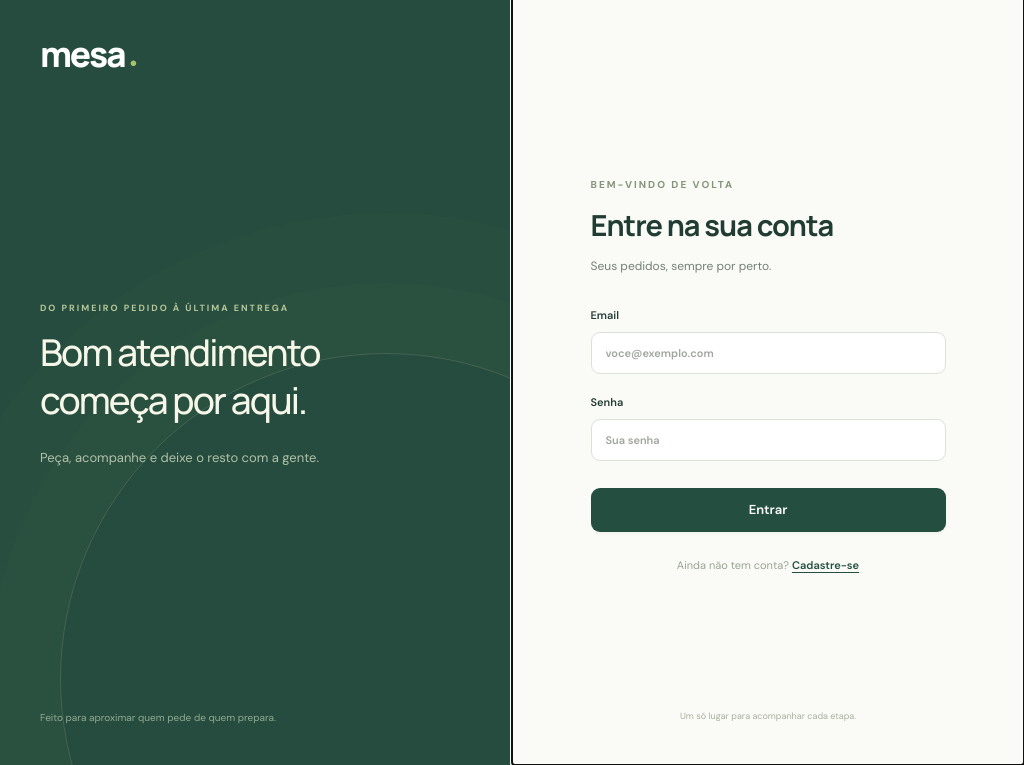
Test: preserves the order form when creation is rejected and does not retry
In the field labelled "Email": (768, 353) [590,332,946,374], type "ana@example.com"
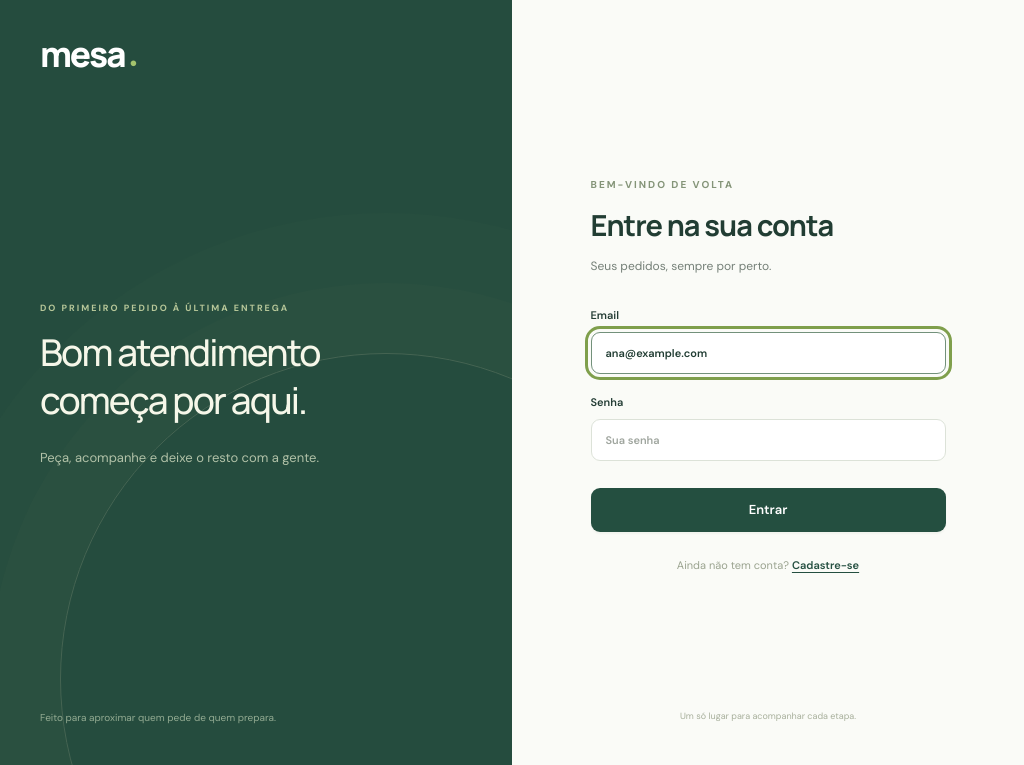
In the password field labelled "Senha": (768, 440) [590,419,946,461], type "senha"
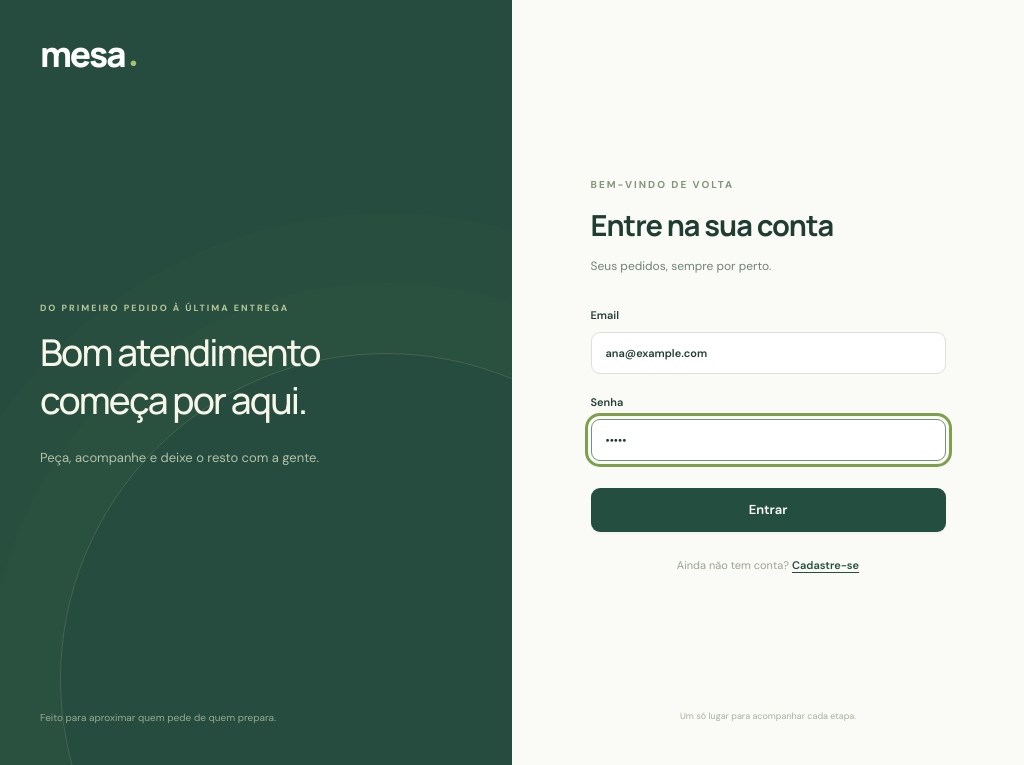
Click the button "Entrar": (768, 510) [590,488,946,532]
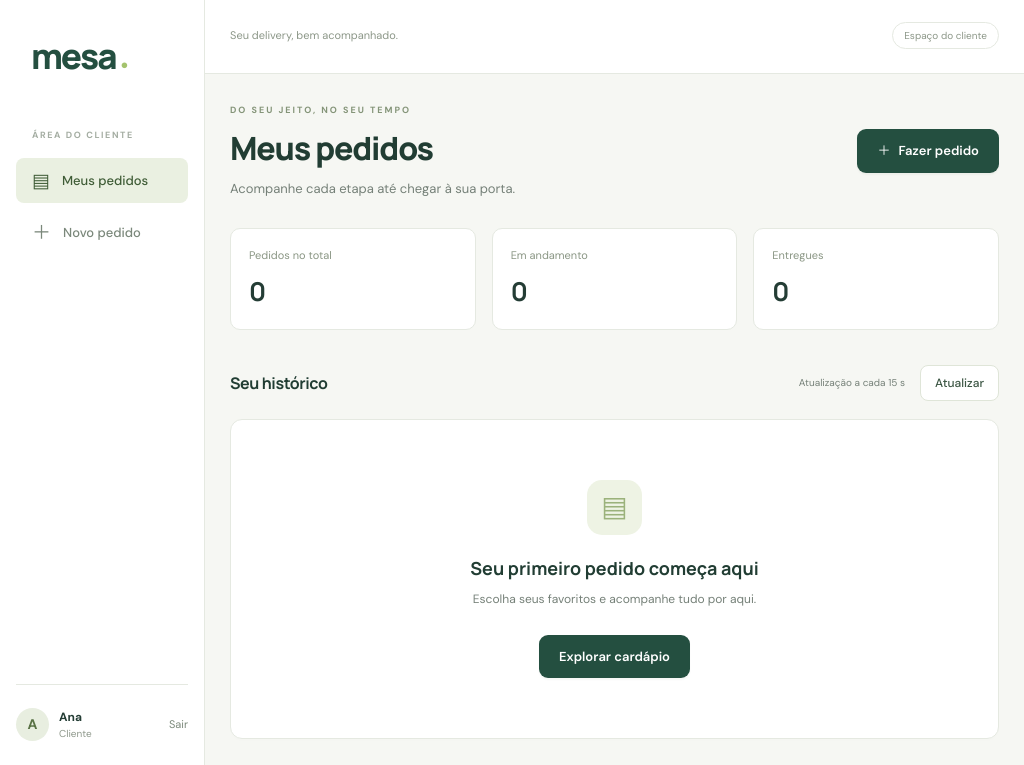
Click the link "＋ Novo pedido": (86, 233) [32,220,141,245]
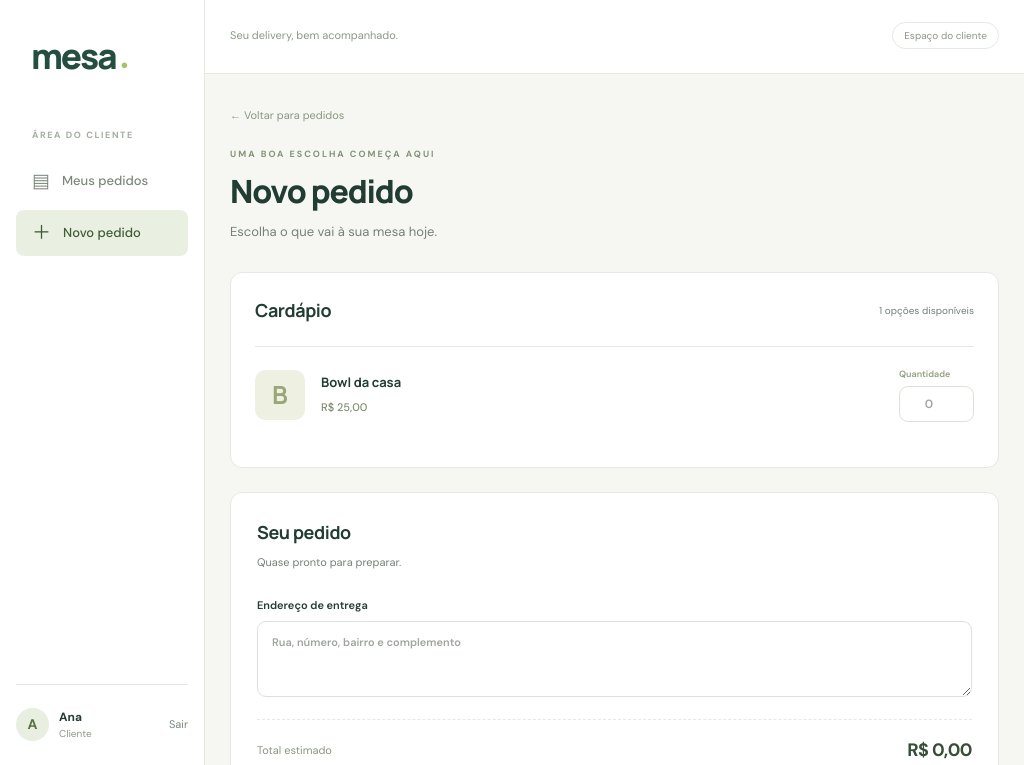
In the number field named "Quantidade de Bowl da casa": (936, 404) [899,386,974,422], type "1"
In the text box labelled "Endereço de entrega": (614, 659) [257,621,972,697], type "Rua A"
(page scrolled)
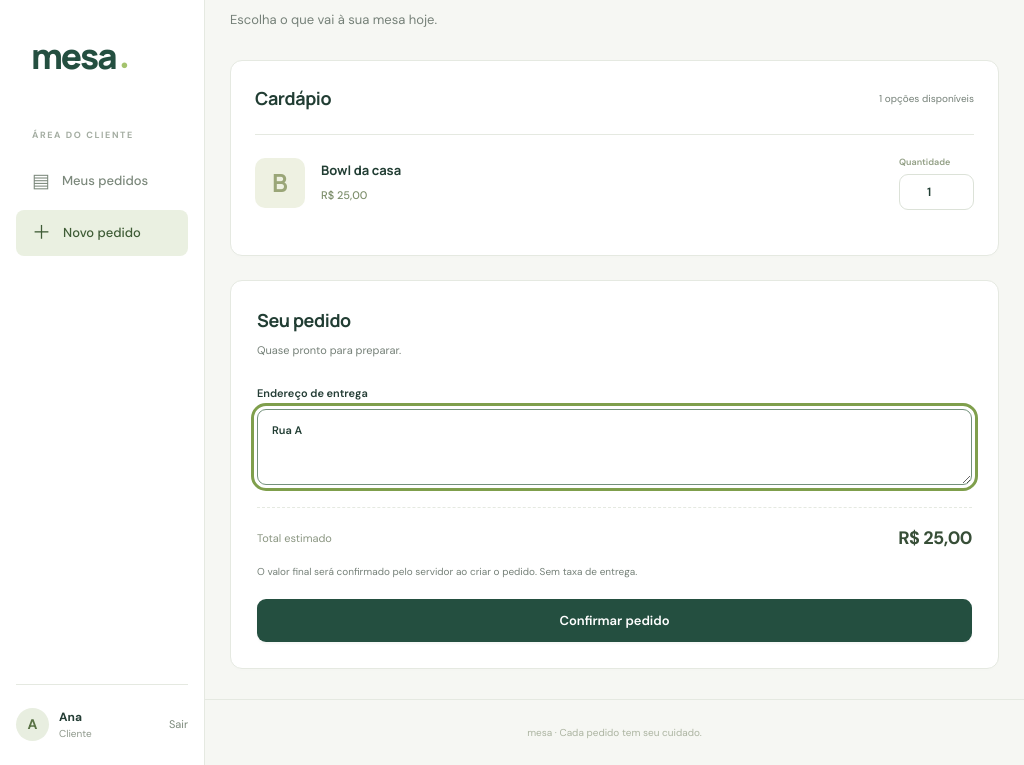
Click the button "Confirmar pedido": (614, 621) [257,599,972,642]
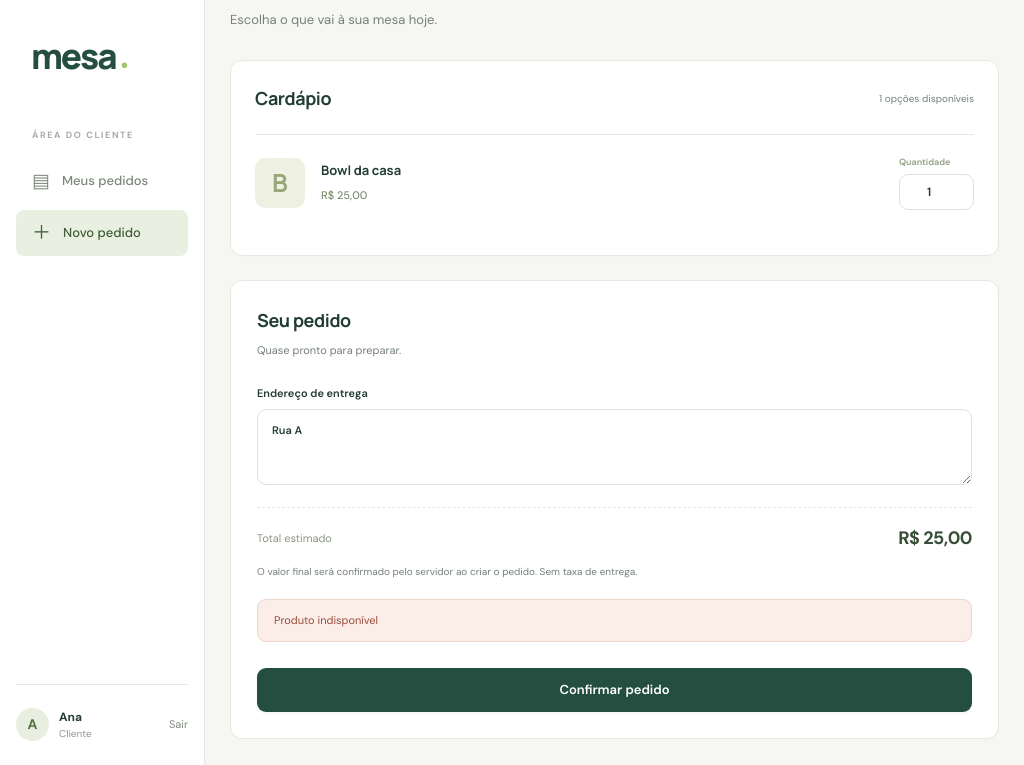
Check: the message reads "Produto indisponível", box [274,613,378,627]
